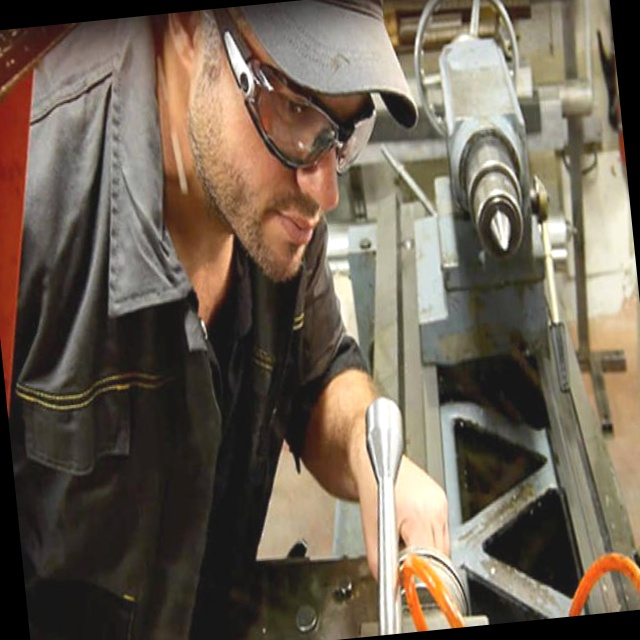goggles: (242, 27, 407, 192)
helmet: (192, 0, 438, 141)
